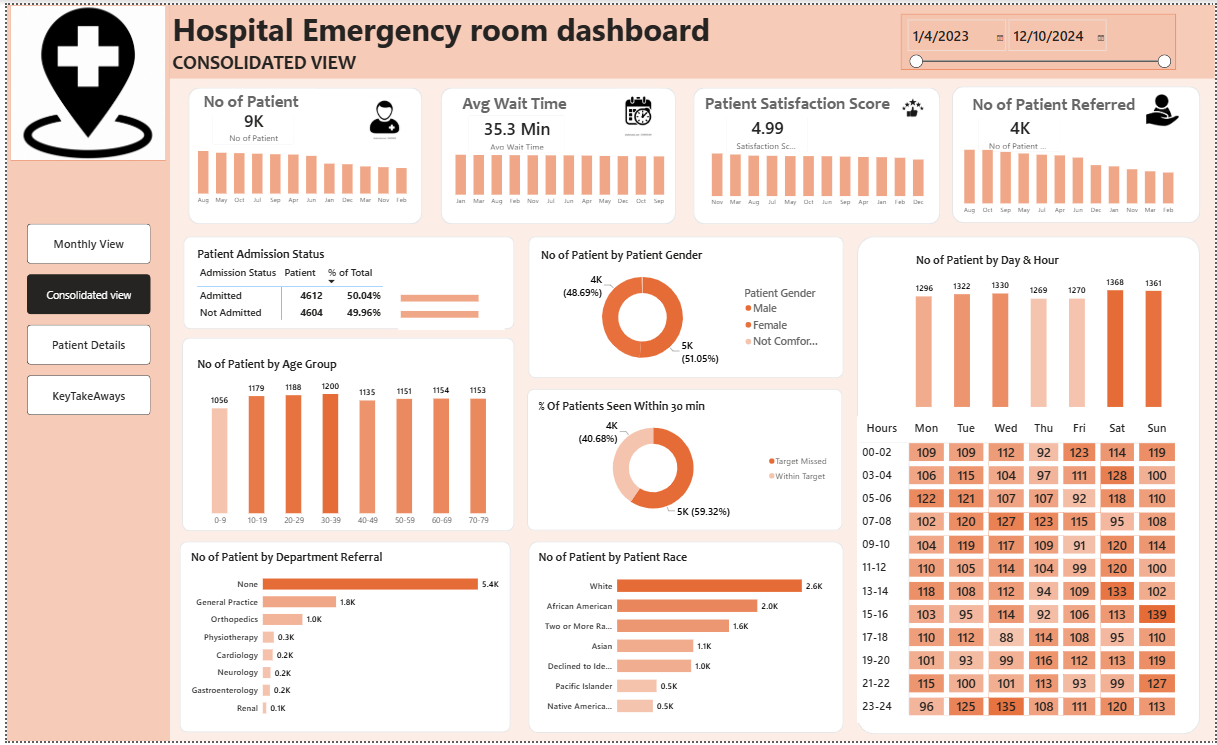

Layout of this report page (visuals, bound fields, positions):
{"tool":"powerbi","page":{"name":"Consolidated view","canvas":[2300,1400],"ordinal":1},"visuals":[{"type":"shape","box":[0,0,310,1400],"z":0},{"type":"shape","box":[309.8,0,1990.2,140],"z":1000},{"type":"textbox","box":[310,0,1087.5,102.5],"z":2000},{"type":"shape","box":[344,156,445,260],"z":3000},{"type":"textbox","box":[310,80,433.3,83.3],"z":4000},{"type":"cardVisual","fields":{"Data":["Hospital ER_Data.No of Patient"]},"box":[372.5,175,190,107.5],"z":5000},{"type":"slicer","fields":{"Values":["Date Table.Date"]},"box":[1700,16.7,523.3,106.7],"z":6000},{"type":"textbox","box":[369,158.5,217.5,50],"z":7000},{"type":"columnChart","fields":{"Y":["Hospital ER_Data.No of Patient"],"Category":["Date Table.Month Column"]},"box":[344,263.5,435,125],"z":8000},{"type":"shape","box":[825,157.5,447.5,260],"z":9000},{"type":"textbox","box":[861,160.5,217.5,50],"z":10000},{"type":"columnChart","fields":{"Y":["Avg(Hospital ER_Data.Patient Waittime)"],"Category":["Date Table.Month Column"]},"box":[835,270,435,120],"z":11000},{"type":"shape","box":[1305,157.5,470,260],"z":12000},{"type":"cardVisual","fields":{"Data":["Hospital ER_Data.Satisfaction Score"]},"box":[1350,190,190,107.5],"z":13000},{"type":"textbox","box":[1322.5,162.5,377.5,52.5],"z":14000},{"type":"columnChart","fields":{"Category":["Date Table.Month Column"],"Y":["Hospital ER_Data.Satisfaction Score"]},"box":[1322.5,268.8,441.2,125],"z":15000},{"type":"shape","box":[1797.5,155,472.5,260],"z":16000},{"type":"cardVisual","fields":{"Data":["Hospital ER_Data.No of Patient Referred"]},"box":[1830,190,190,106.7],"z":17000},{"type":"textbox","box":[1830,163.3,325,51.7],"z":18000},{"type":"shape","box":[335.9,441,630,177],"z":19000},{"type":"columnChart","fields":{"Y":["Hospital ER_Data.No of Patient Referred"],"Category":["Date Table.Month Column"]},"box":[1802,262,436,146],"z":20000},{"type":"cardVisual","fields":{"Data":["Hospital ER_Data.Avg Wait Time"]},"box":[860,192.5,217.5,105],"z":21000},{"type":"pivotTable","title":"Patient Admission Status","fields":{"Rows":["Hospital ER_Data.Admission Status"],"Values":["Hospital ER_Data.No of Patient1","Hospital ER_Data.No of Patient"]},"box":[356.4,459,589.7,159],"z":22000},{"type":"barChart","fields":{"Category":["Hospital ER_Data.Admission Status"],"Y":["Hospital ER_Data.No of Patient"]},"box":[743.6,523.1,202.6,94.9],"z":23000},{"type":"shape","box":[332.9,632.5,632.5,368.5],"z":24000},{"type":"clusteredColumnChart","fields":{"Category":["Hospital ER_Data.Age Group"],"Y":["Hospital ER_Data.No of Patient"]},"box":[356.7,668.1,589.7,332.9],"z":25000},{"type":"shape","box":[328.1,1020,630.1,363.8],"z":26000},{"type":"clusteredBarChart","fields":{"Category":["Hospital ER_Data.Department Referral"],"Y":["Hospital ER_Data.No of Patient"]},"box":[344.8,1036.7,601.6,330.5],"z":27000},{"type":"shape","box":[991.5,439.9,600,270],"z":28000},{"type":"donutChart","fields":{"Y":["Hospital ER_Data.No of Patient"],"Category":["Hospital ER_Data.Patient Gender"]},"box":[1010,462,564,238],"z":29000},{"type":"shape","box":[990,730,600,270],"z":30000},{"type":"shape","box":[992.5,1020,600,365],"z":31000},{"type":"donutChart","title":"% Of Patients Seen Within 30 min","fields":{"Category":["Hospital ER_Data.Waittime status"],"Y":["Hospital ER_Data.No of Patient"]},"box":[1006,748,568,236],"z":32000},{"type":"clusteredBarChart","fields":{"Y":["Hospital ER_Data.No of Patient"],"Category":["Hospital ER_Data.Patient Race"]},"box":[1005,1037.5,570,330],"z":33000},{"type":"shape","box":[1617.5,440,652.5,947.5],"z":34000},{"type":"pivotTable","fields":{"Rows":["Hospital ER_Data.Waitting Interval"],"Columns":["Date Table.Day Name"],"Values":["Hospital ER_Data.No of Patient"]},"box":[1616.7,783.3,613.3,583.3],"z":35000},{"type":"columnChart","title":"No of Patient by Day & Hour","fields":{"Category":["Date Table.Day Name"],"Y":["Hospital ER_Data.No of Patient"]},"box":[1723.3,470,480,300],"z":36000},{"type":"image","box":[667.5,175,100,80],"z":37000},{"type":"image","box":[1150,160,100,90],"z":38000},{"type":"image","box":[1680,160,83.8,72.5],"z":39000},{"type":"image","box":[2157.5,162.5,82.5,70],"z":40000},{"type":"image","box":[8,0,294,296],"z":41000},{"type":"pageNavigator","box":[37.5,415,235,367.5],"z":42000}]}

Visuals, with their boxes in screenshot pixels (x1, y1, x2, y2), scaled from the page's 2300x1400 canvas onto the 1217x745 screenshot:
shape: [x1=0, y1=0, x2=164, y2=744]
shape: [x1=164, y1=0, x2=1216, y2=74]
textbox: [x1=164, y1=0, x2=739, y2=55]
shape: [x1=182, y1=83, x2=417, y2=221]
textbox: [x1=164, y1=43, x2=393, y2=87]
cardVisual - Hospital ER_Data.No of Patient: [x1=197, y1=93, x2=298, y2=150]
slicer - Date Table.Date: [x1=900, y1=9, x2=1176, y2=66]
textbox: [x1=195, y1=84, x2=310, y2=111]
columnChart - Hospital ER_Data.No of Patient x Date Table.Month Column: [x1=182, y1=140, x2=412, y2=207]
shape: [x1=437, y1=84, x2=673, y2=222]
textbox: [x1=456, y1=85, x2=571, y2=112]
columnChart - Avg(Hospital ER_Data.Patient Waittime) x Date Table.Month Column: [x1=442, y1=144, x2=672, y2=208]
shape: [x1=691, y1=84, x2=939, y2=222]
cardVisual - Hospital ER_Data.Satisfaction Score: [x1=714, y1=101, x2=815, y2=158]
textbox: [x1=700, y1=86, x2=900, y2=114]
columnChart - Date Table.Month Column x Hospital ER_Data.Satisfaction Score: [x1=700, y1=143, x2=933, y2=210]
shape: [x1=951, y1=82, x2=1201, y2=221]
cardVisual - Hospital ER_Data.No of Patient Referred: [x1=968, y1=101, x2=1069, y2=158]
textbox: [x1=968, y1=87, x2=1140, y2=114]
shape: [x1=178, y1=235, x2=511, y2=329]
columnChart - Hospital ER_Data.No of Patient Referred x Date Table.Month Column: [x1=953, y1=139, x2=1184, y2=217]
cardVisual - Hospital ER_Data.Avg Wait Time: [x1=455, y1=102, x2=570, y2=158]
"Patient Admission Status" pivotTable: [x1=189, y1=244, x2=501, y2=329]
barChart - Hospital ER_Data.Admission Status x Hospital ER_Data.No of Patient: [x1=393, y1=278, x2=501, y2=329]
shape: [x1=176, y1=337, x2=511, y2=533]
clusteredColumnChart - Hospital ER_Data.Age Group x Hospital ER_Data.No of Patient: [x1=189, y1=356, x2=501, y2=533]
shape: [x1=174, y1=543, x2=507, y2=736]
clusteredBarChart - Hospital ER_Data.Department Referral x Hospital ER_Data.No of Patient: [x1=182, y1=552, x2=501, y2=728]
shape: [x1=525, y1=234, x2=842, y2=378]
donutChart - Hospital ER_Data.No of Patient x Hospital ER_Data.Patient Gender: [x1=534, y1=246, x2=833, y2=372]
shape: [x1=524, y1=388, x2=841, y2=532]
shape: [x1=525, y1=543, x2=843, y2=737]
"% Of Patients Seen Within 30 min" donutChart: [x1=532, y1=398, x2=833, y2=524]
clusteredBarChart - Hospital ER_Data.No of Patient x Hospital ER_Data.Patient Race: [x1=532, y1=552, x2=833, y2=728]
shape: [x1=856, y1=234, x2=1201, y2=738]
pivotTable - Hospital ER_Data.Waitting Interval x Date Table.Day Name: [x1=855, y1=417, x2=1180, y2=727]
"No of Patient by Day & Hour" columnChart: [x1=912, y1=250, x2=1166, y2=410]
image: [x1=353, y1=93, x2=406, y2=136]
image: [x1=608, y1=85, x2=661, y2=133]
image: [x1=889, y1=85, x2=933, y2=124]
image: [x1=1142, y1=86, x2=1185, y2=124]
image: [x1=4, y1=0, x2=160, y2=158]
pageNavigator: [x1=20, y1=221, x2=144, y2=416]
